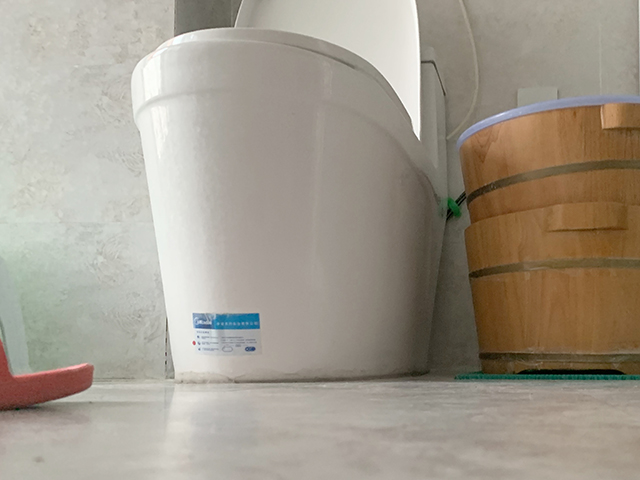closestool: (129, 1, 450, 383)
slippers: (1, 340, 94, 410)
